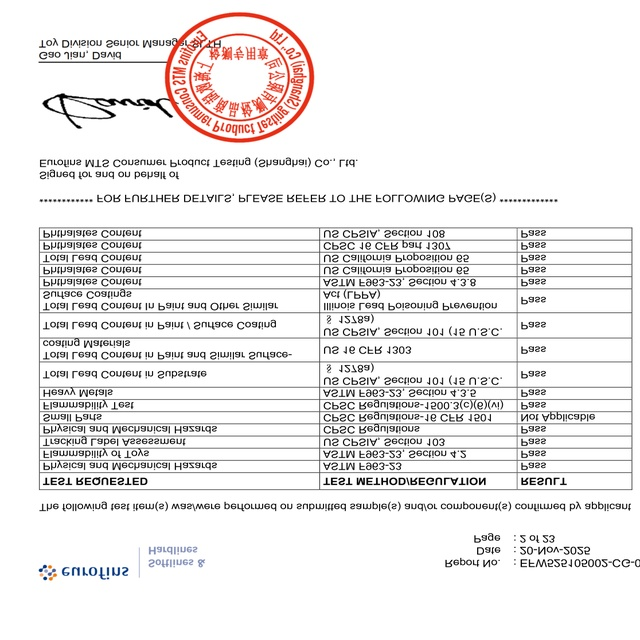eurofins: (37, 557, 138, 587)
